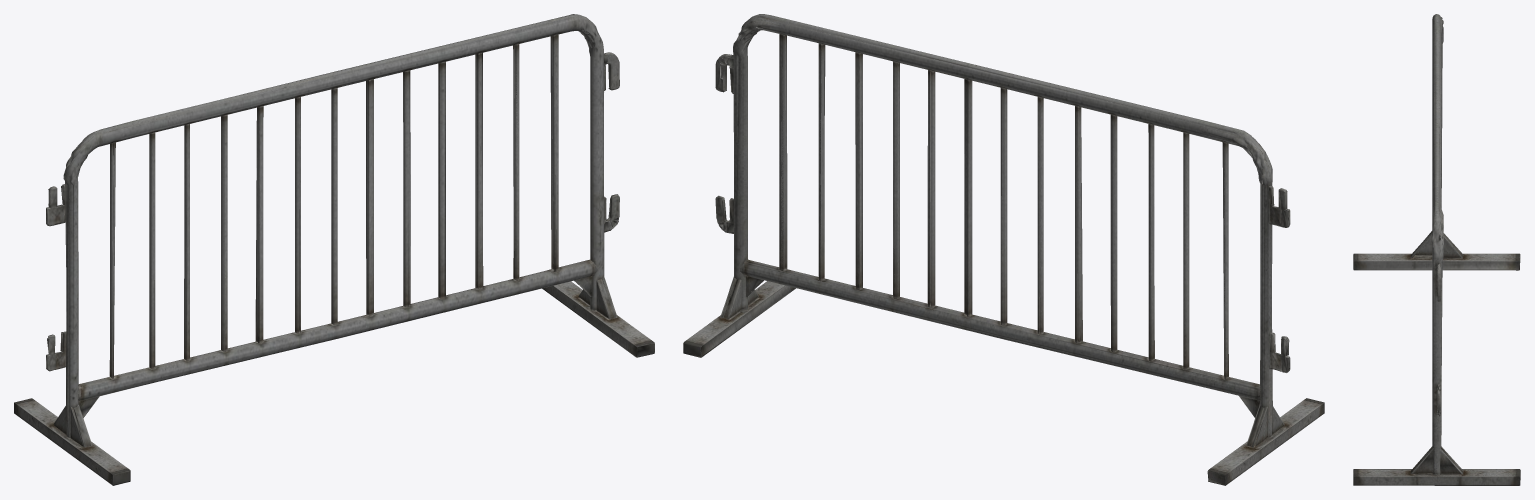
Rendered from p7-crowd-barrier-t25.glb.
3 views of the same model, side by side, from view 1: azimuth 30°, elevation 25°; view 2: azimuth 150°, elevation 25°; view 3: azimuth 270°, elevation 25° (orthographic). The views are drawn at different scales.
Visible parts, largest first — view 1: p7-crowd-barrier-t25; view 2: p7-crowd-barrier-t25; view 3: p7-crowd-barrier-t25.
Boxes of the visible parts, x1=… form: p7-crowd-barrier-t25: x1=14, y1=14, x2=654, y2=485; p7-crowd-barrier-t25: x1=683, y1=14, x2=1324, y2=485; p7-crowd-barrier-t25: x1=1353, y1=14, x2=1520, y2=485.
Size of the model in its own units: 2 by 1.04 by 0.6.
1 material, 1 textured.
